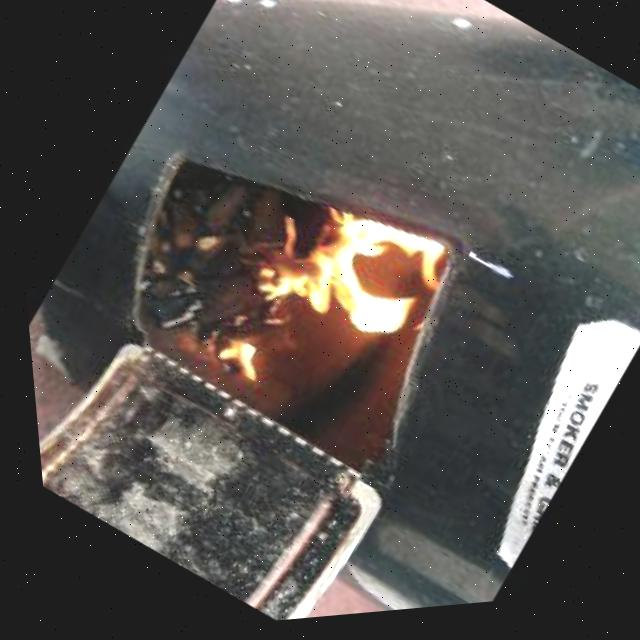Fire: (179, 160, 478, 466)
